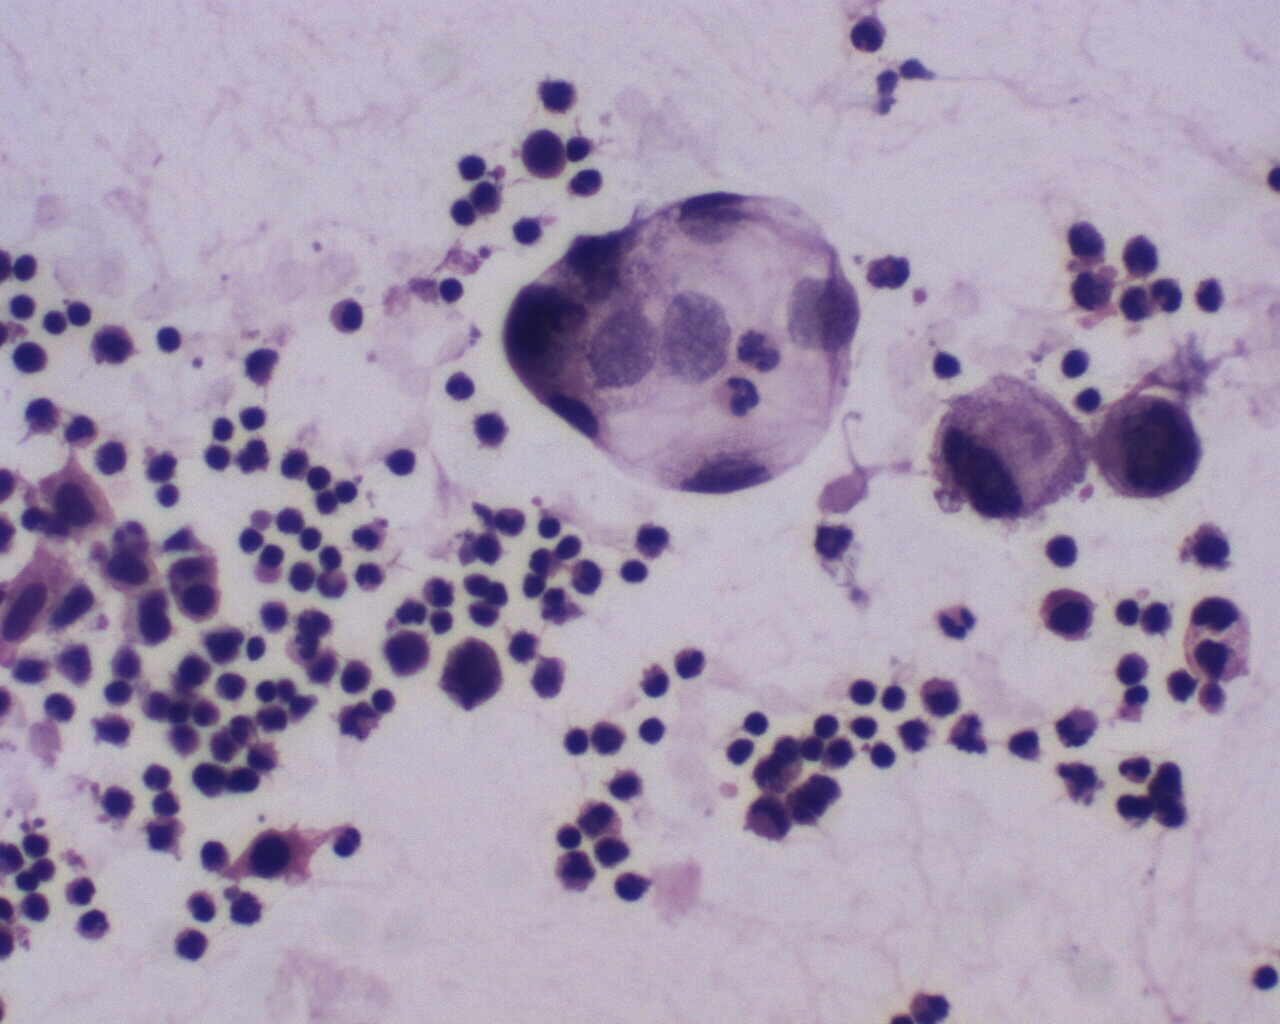ab: (1099, 389, 1205, 501), (43, 463, 115, 537), (435, 637, 506, 711), (173, 581, 225, 625)
histo: (493, 185, 860, 495), (931, 371, 1090, 528)
lymph: (385, 441, 424, 479), (1058, 346, 1095, 382), (101, 675, 136, 709), (1247, 961, 1280, 997), (197, 442, 233, 475), (616, 555, 652, 587), (152, 324, 185, 356), (870, 740, 901, 775), (875, 682, 910, 713), (848, 677, 881, 709), (740, 705, 771, 739), (435, 274, 468, 304), (7, 290, 36, 321)
neutro: (928, 595, 978, 647), (1050, 699, 1099, 750), (846, 11, 897, 59), (352, 556, 390, 596), (1117, 751, 1156, 788), (636, 713, 672, 751), (490, 501, 523, 540)
